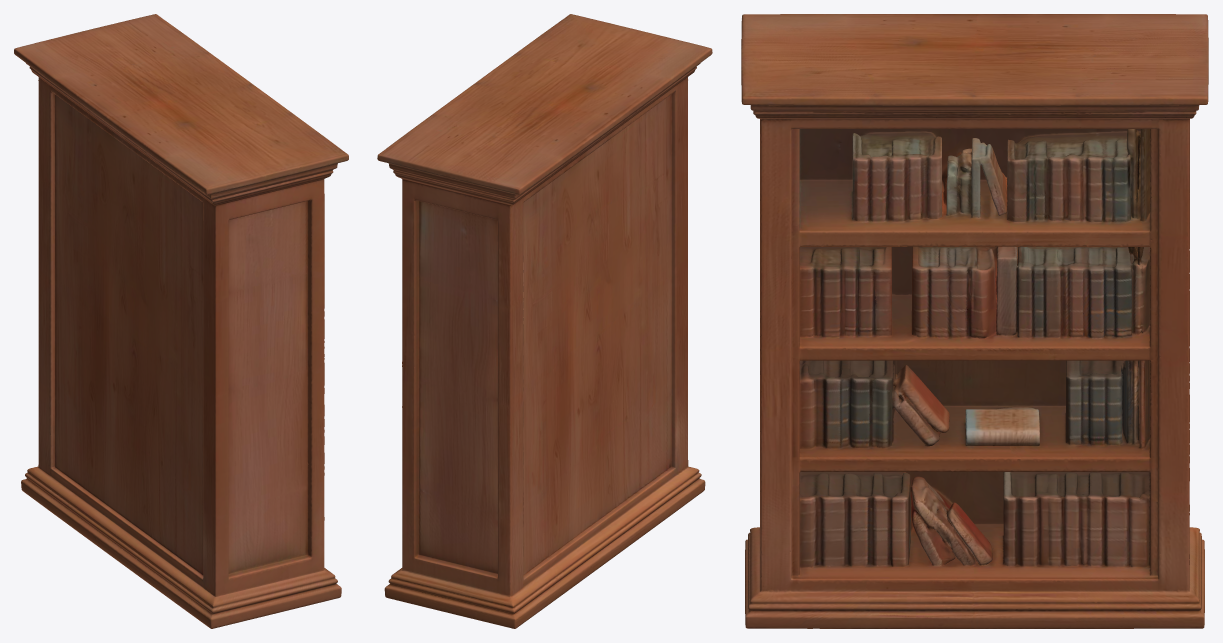
The model's file is detailed_realistic_model_ancientbookshelf_01.glb.
The picture shows the model from 3 angles, left to right: view 1: azimuth 30°, elevation 25°; view 2: azimuth 150°, elevation 25°; view 3: azimuth 270°, elevation 25°; orthographic projection. The views are drawn at different scales.
Parts seen in each view (by area): view 1: tripo_node_13772662-b57e-4f0d-9e2c-cd0ec04106f5; view 2: tripo_node_13772662-b57e-4f0d-9e2c-cd0ec04106f5; view 3: tripo_node_13772662-b57e-4f0d-9e2c-cd0ec04106f5.
Boxes of the visible parts, x1,y1,x2,y2 form: tripo_node_13772662-b57e-4f0d-9e2c-cd0ec04106f5: (14, 14, 348, 628); tripo_node_13772662-b57e-4f0d-9e2c-cd0ec04106f5: (377, 14, 712, 628); tripo_node_13772662-b57e-4f0d-9e2c-cd0ec04106f5: (741, 14, 1208, 628).
Bounding box in the file's own units: 0.3386 × 1 × 0.7884.
Materials: 1 (1 with a texture image).
